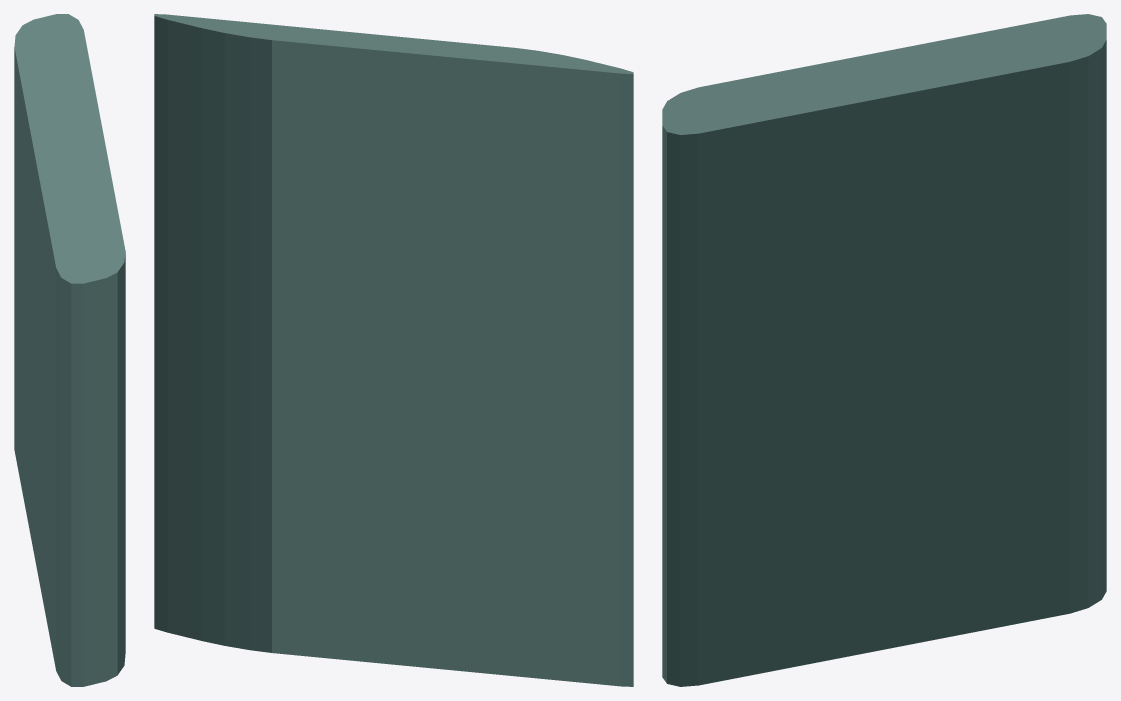
The model's file is Bridge_Anchor.gltf.
3 renders of one model, left to right at view 1: azimuth 30°, elevation 25°; view 2: azimuth 150°, elevation 25°; view 3: azimuth 270°, elevation 25°, orthographic. The views are drawn at different scales.
Visible parts, largest first — view 1: Bridge_Anchor_baked; view 2: Bridge_Anchor_baked; view 3: Bridge_Anchor_baked.
Boxes of the visible parts, box(x1,y1,x2,y2) form: Bridge_Anchor_baked: box(14, 14, 125, 686); Bridge_Anchor_baked: box(154, 14, 633, 686); Bridge_Anchor_baked: box(662, 14, 1106, 686).
Bounding box in the file's own units: 0.4319 × 1.29 × 0.73.
